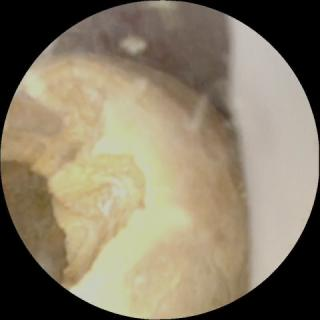stone: (4, 55, 250, 314)
